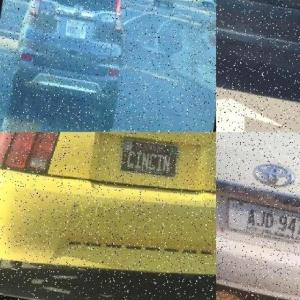Plate: (215, 189, 300, 253), (115, 139, 177, 182), (60, 18, 86, 42), (157, 0, 162, 2)
